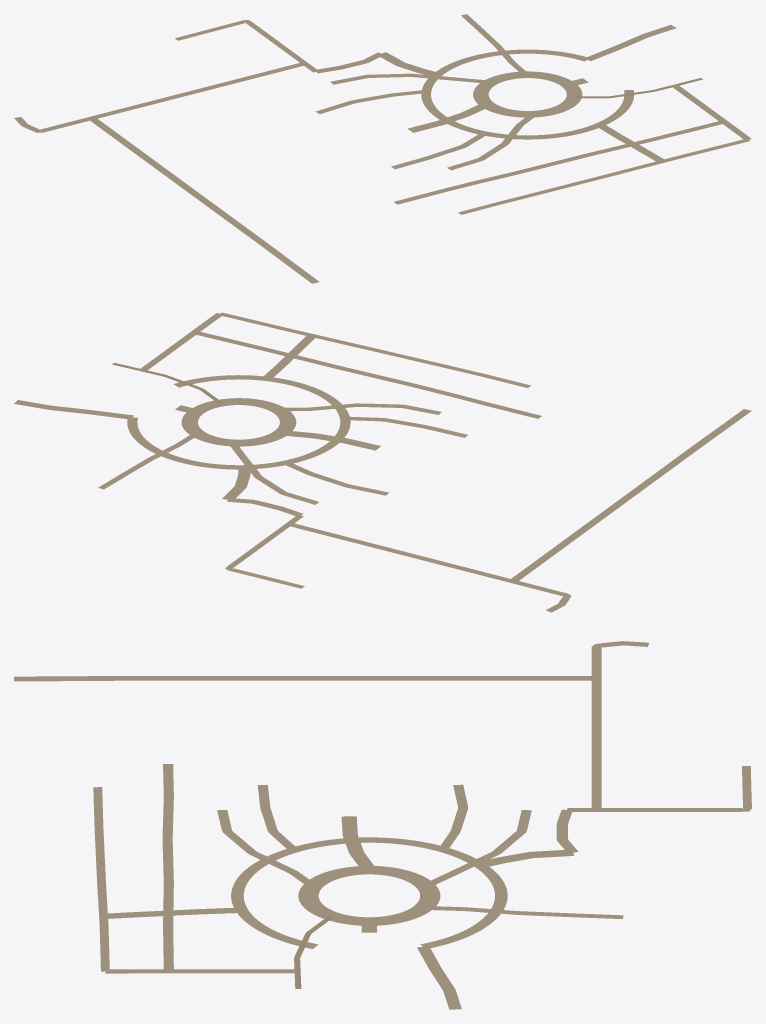
File: SM_Edo_District_Roads.fbx
The picture shows the model from 3 angles, top to bottom: view 1: azimuth 30°, elevation 25°; view 2: azimuth 150°, elevation 25°; view 3: azimuth 270°, elevation 25°; orthographic projection. The views are drawn at different scales.
Visible parts, largest first — view 1: SM_Edo_District_Roads; view 2: SM_Edo_District_Roads; view 3: SM_Edo_District_Roads.
Boxes of the visible parts, x1,y1,x2,y2 form: SM_Edo_District_Roads: [14, 14, 751, 283]; SM_Edo_District_Roads: [14, 312, 751, 612]; SM_Edo_District_Roads: [14, 641, 751, 1009].
Bounding box in the file's own units: 348 × 1.97 × 291.
